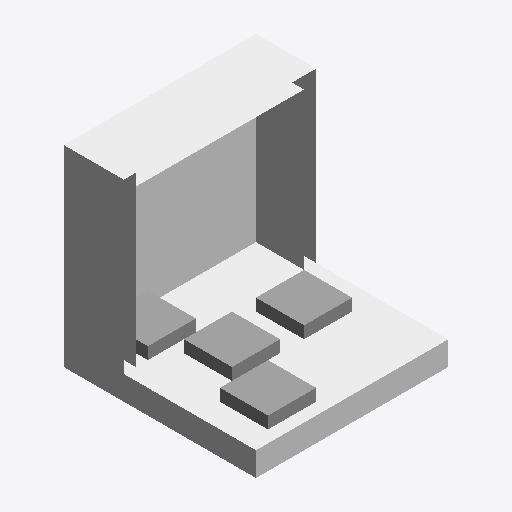
Isometric view (azimuth 45°, elevation 35.3°) of a Minecraft model made of 10 cuboids, textured from the same repository.
Parts seen in each view (by area): element 1, element 2, element 3, element 5, element 4, element 7, element 8, element 9, element 6.
Boxes of the visible parts, x1,y1,x2,y2 form: element 1: [64, 242, 447, 477]; element 2: [64, 34, 266, 345]; element 3: [76, 145, 267, 449]; element 5: [89, 48, 303, 185]; element 4: [256, 41, 446, 342]; element 7: [220, 360, 315, 428]; element 8: [256, 270, 351, 338]; element 9: [184, 312, 279, 380]; element 6: [136, 291, 195, 359].
Size of the model in its own units: 16 by 16 by 16.